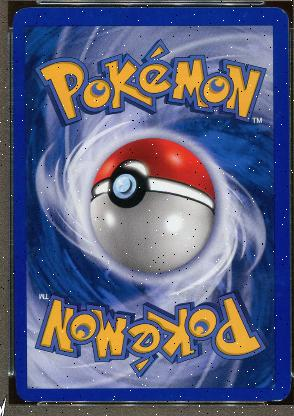Card: (9, 5, 291, 406)
Corner Wear: (272, 6, 286, 18), (269, 398, 280, 402)
Edge Wear: (25, 398, 33, 402)
